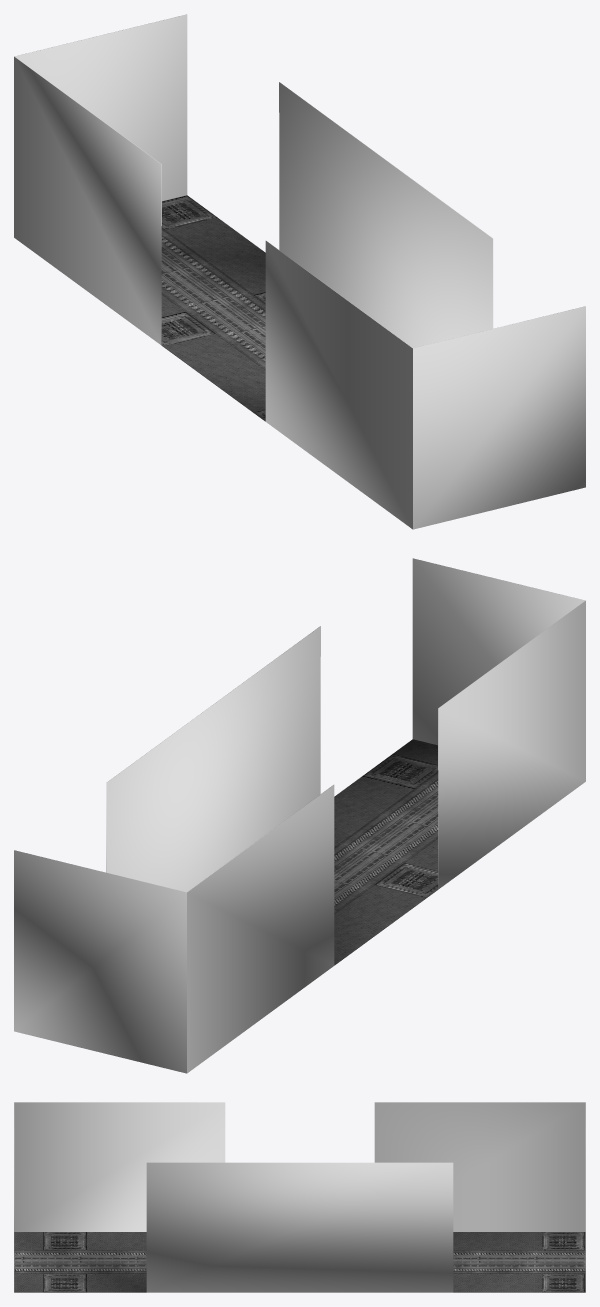
The model's file is corridor_c6.fbx.
3 views of the same model, one above another, from view 1: azimuth 30°, elevation 25°; view 2: azimuth 150°, elevation 25°; view 3: azimuth 270°, elevation 25° (orthographic). The views are drawn at different scales.
Visible parts, largest first — view 1: corridor C-6; view 2: corridor C-6; view 3: corridor C-6.
Boxes of the visible parts, x1,y1,x2,y2 form: corridor C-6: (14,14,585,529); corridor C-6: (14,558,585,1073); corridor C-6: (14,1102,585,1292).
Bounding box in the file's own units: 361 × 361 × 1443.
